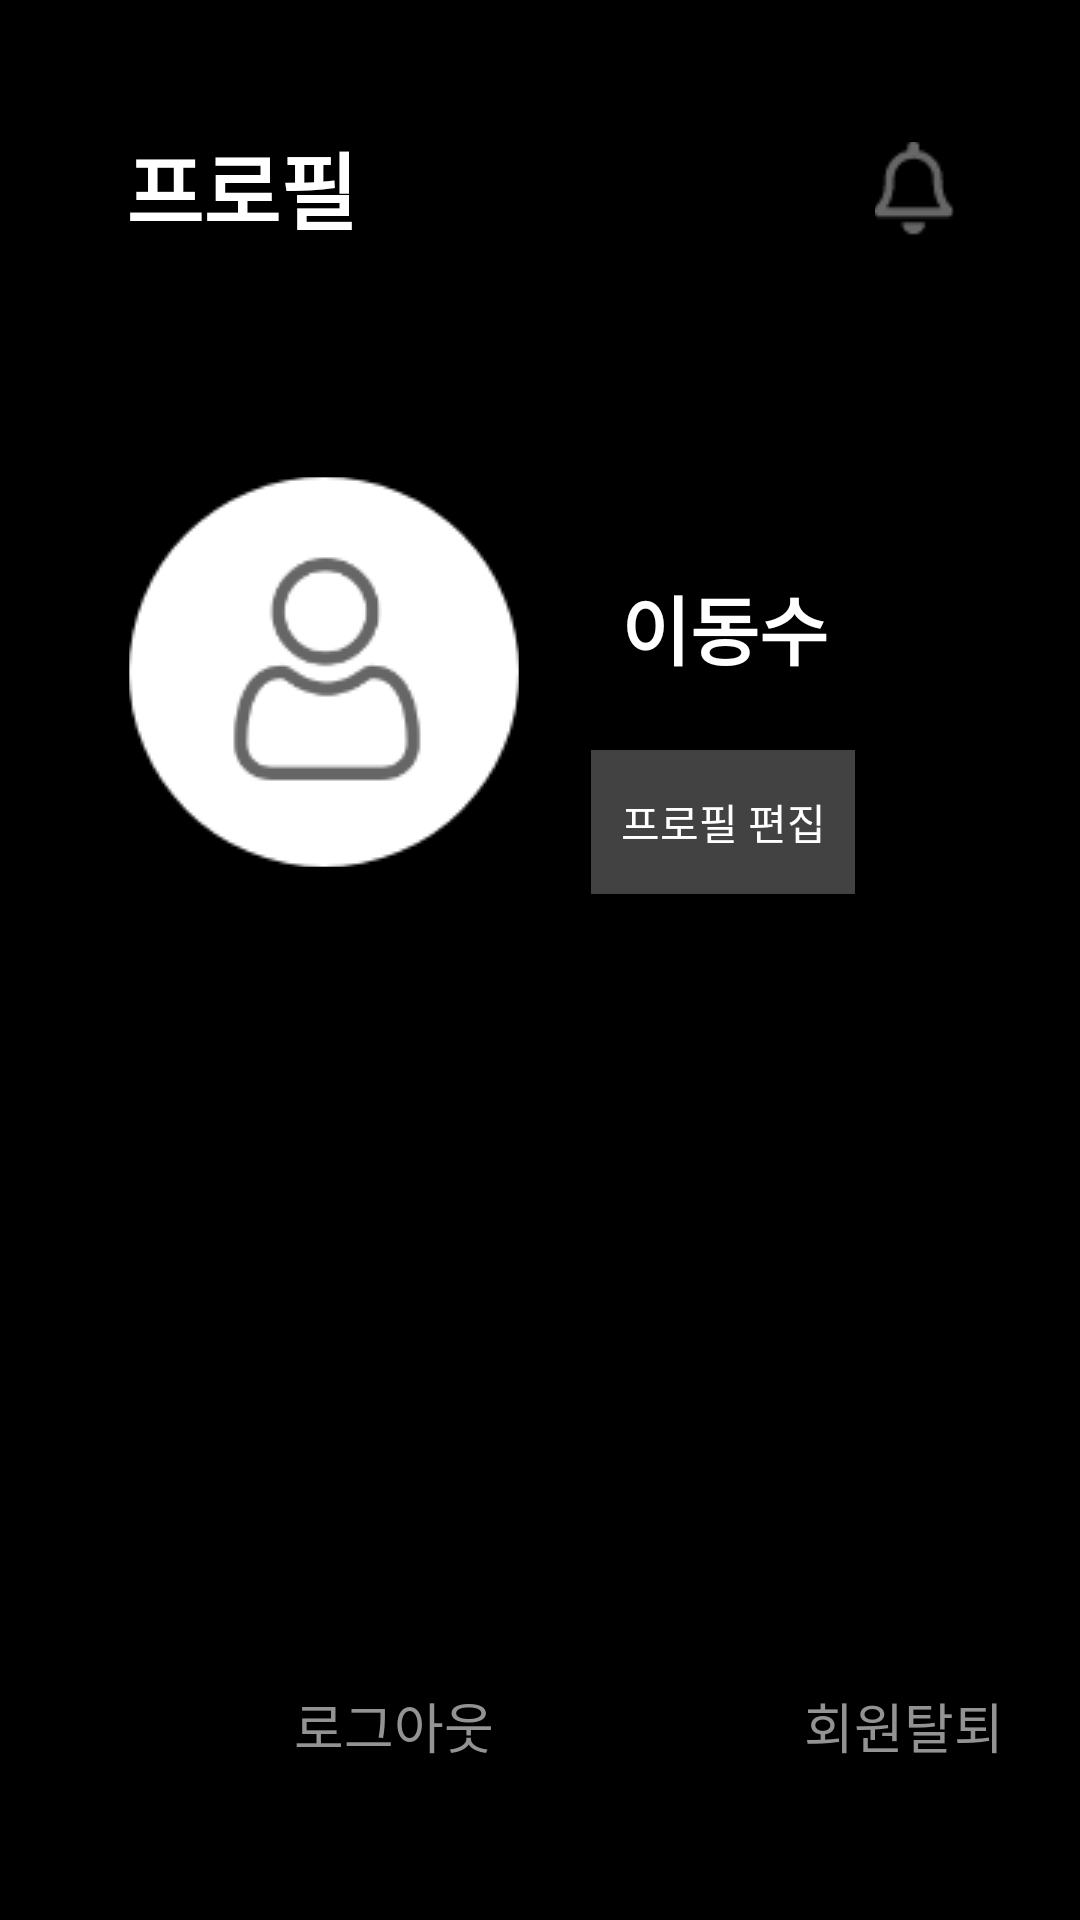

Named icons in this screenshot (1080*1920) and their bounding boxes, rect(x1, y1, x2, y2):
font awsome bell: rect(875, 142, 954, 235)
